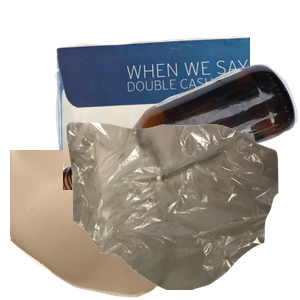glass: (63, 62, 300, 242)
paper: (52, 34, 292, 214)
plastic: (10, 150, 250, 300)
trash: (64, 120, 300, 300)
